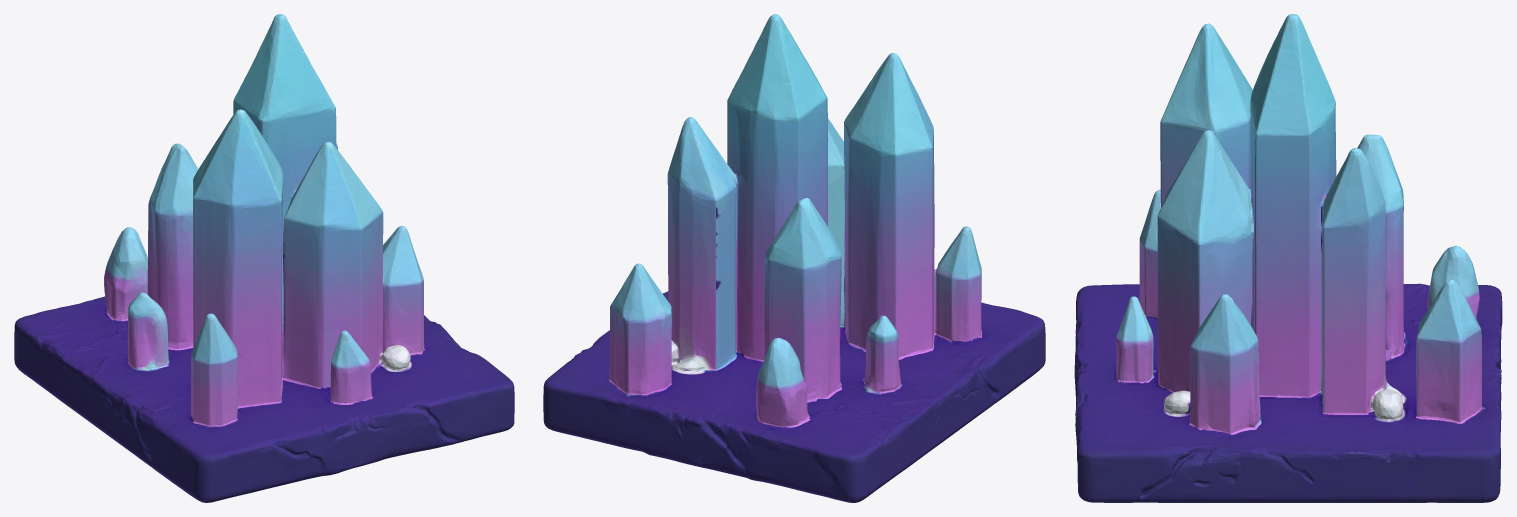
File: crystal_cluster_prop.glb
3 renders of one model, left to right at view 1: azimuth 30°, elevation 25°; view 2: azimuth 150°, elevation 25°; view 3: azimuth 270°, elevation 25°, orthographic. The views are drawn at different scales.
Visible parts, largest first — view 1: tmptiedhjbn.ply; view 2: tmptiedhjbn.ply; view 3: tmptiedhjbn.ply.
Boxes of the visible parts, box(x1,y1,x2,y2) form: tmptiedhjbn.ply: box(14, 14, 514, 502); tmptiedhjbn.ply: box(543, 14, 1045, 502); tmptiedhjbn.ply: box(1074, 14, 1502, 502).
Size of the model in its own units: 1.76 by 1.99 by 1.86.
1 material, 1 textured.
